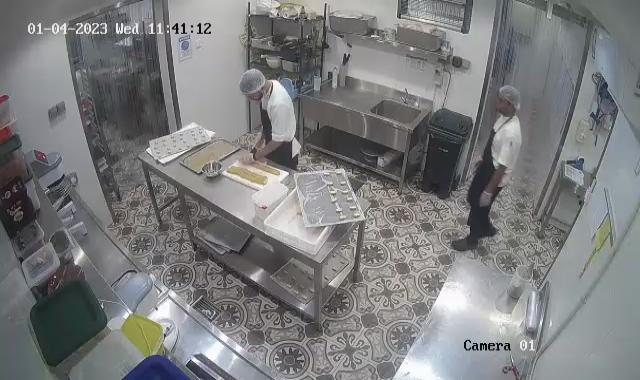hairnet: (496, 84, 523, 114), (240, 68, 265, 99)
